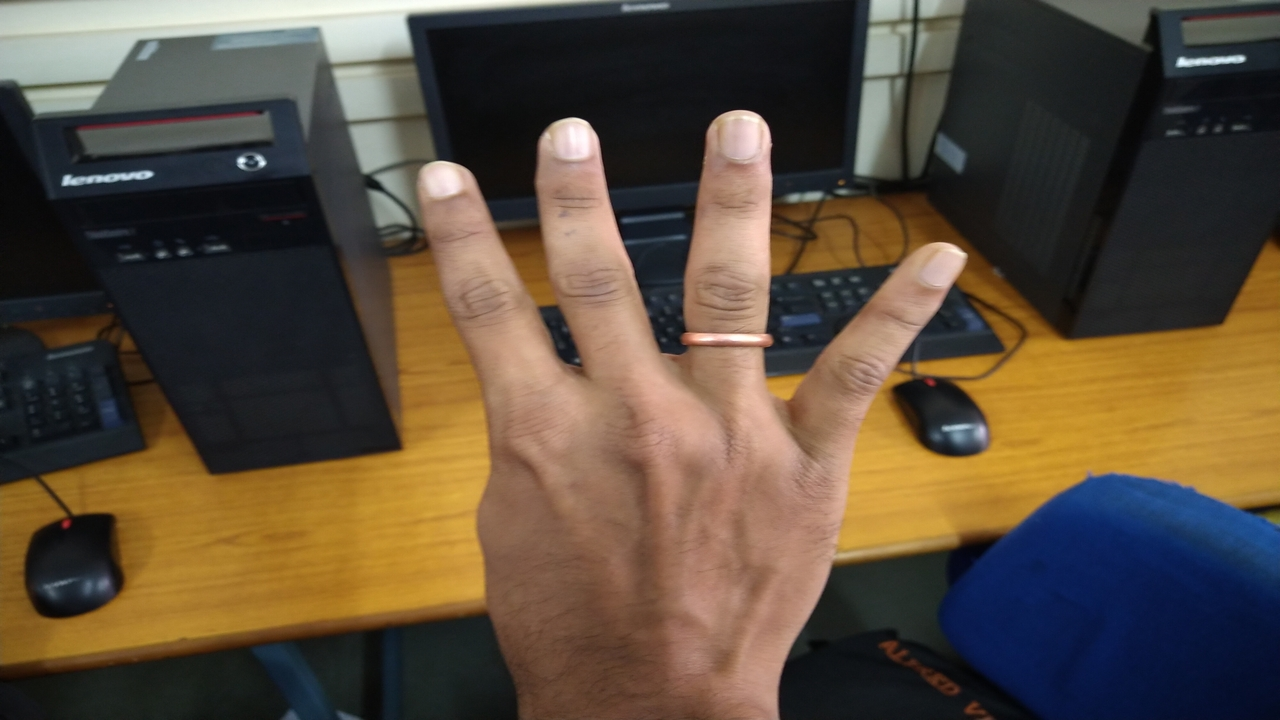fingertip: (894, 230, 978, 300), (696, 104, 778, 172), (406, 152, 480, 220), (534, 114, 606, 178)
